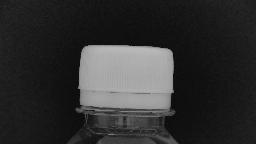Good Cap: (70, 42, 182, 120)
